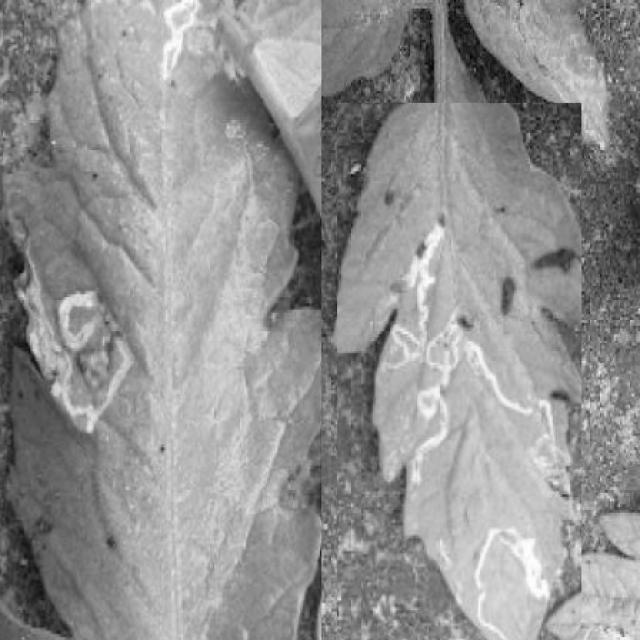Leaf Miner: (0, 0, 321, 640), (337, 103, 582, 640)
